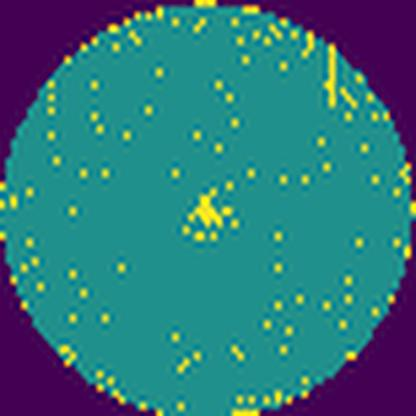Center: (188, 192, 226, 228)
